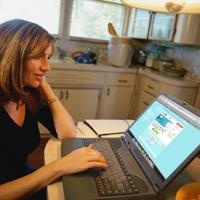person without safety: (1, 18, 66, 146)
